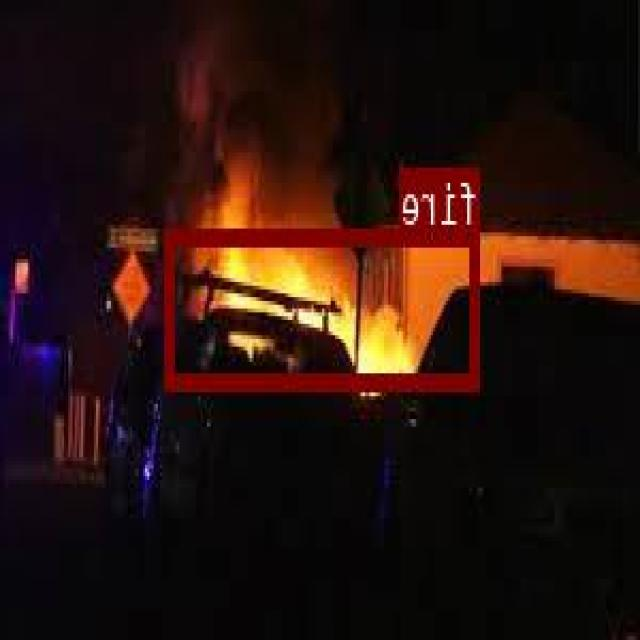fire: (168, 228, 480, 387)
